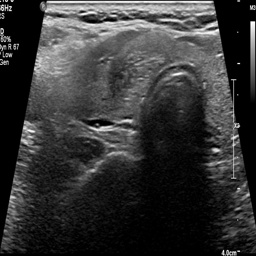mass: (103, 52, 165, 98)
